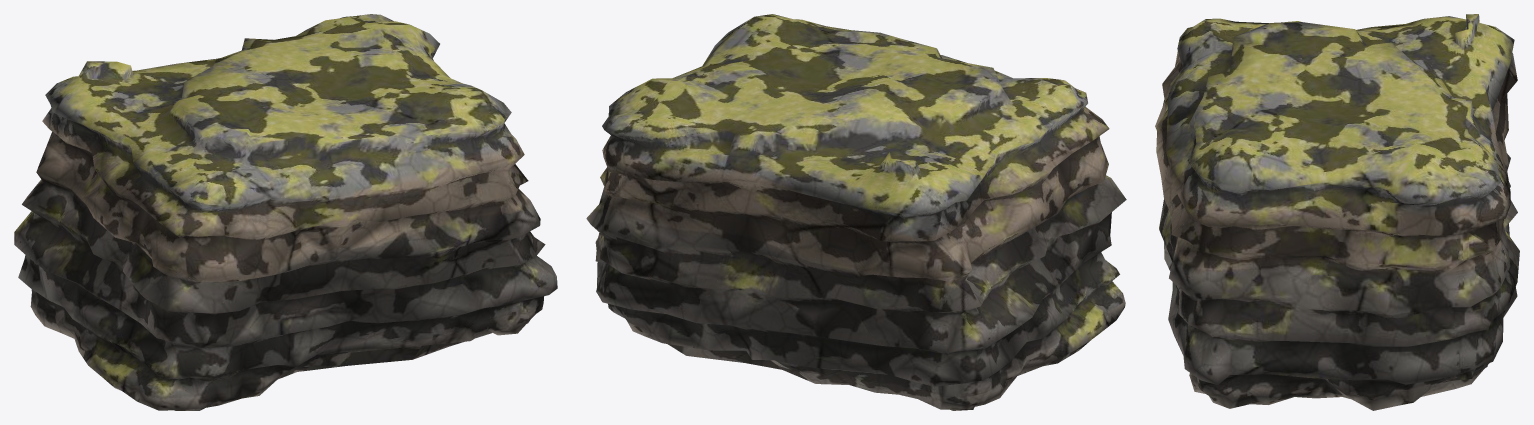
The model's file is rock_01.glb.
The picture shows the model from 3 angles, left to right: view 1: azimuth 30°, elevation 25°; view 2: azimuth 150°, elevation 25°; view 3: azimuth 270°, elevation 25°; orthographic projection.
Visible parts, largest first — view 1: rock; view 2: rock; view 3: rock.
Part boxes in pixels (x1,y1,x2,y2): rock: (14, 14, 557, 410); rock: (586, 14, 1126, 410); rock: (1155, 14, 1519, 410).
Bounding box in the file's own units: 2.36 × 1.3 × 1.77.
Materials: 1 (1 with a texture image).
